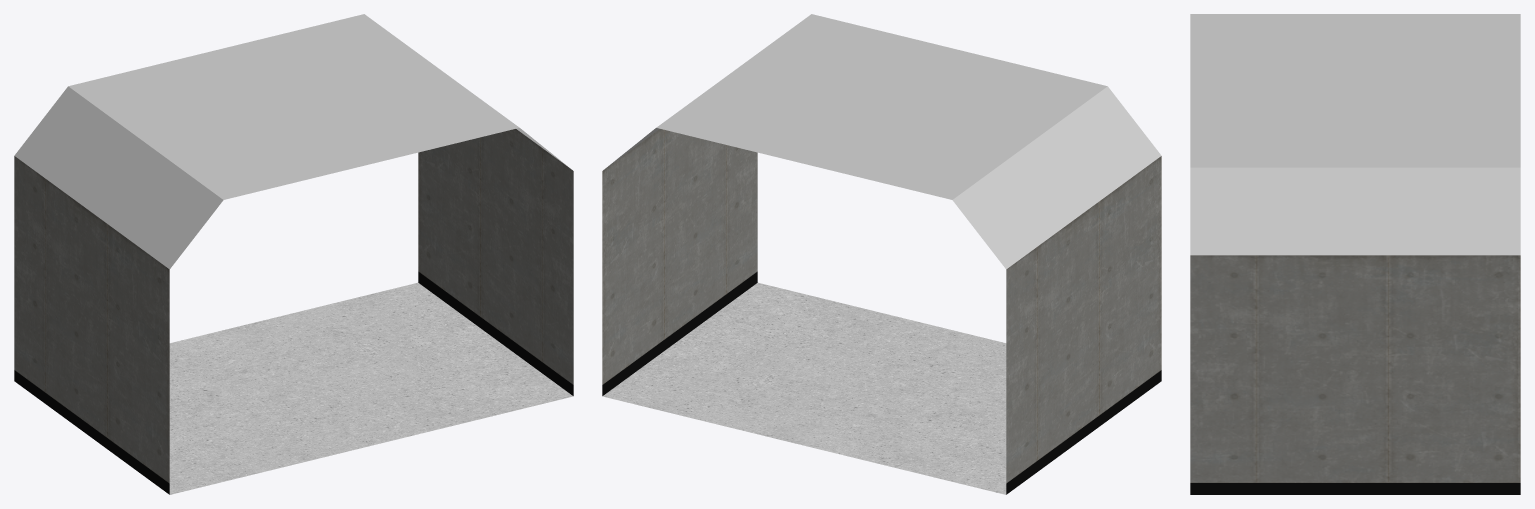
The picture shows the model from 3 angles, left to right: view 1: azimuth 30°, elevation 25°; view 2: azimuth 150°, elevation 25°; view 3: azimuth 270°, elevation 25°; orthographic projection. The views are drawn at different scales.
Parts seen in each view (by area): view 1: GC; view 2: GC; view 3: GC.
Part boxes in pixels (x1,y1,x2,y2): GC: (14,14,573,494); GC: (602,14,1161,494); GC: (1190,14,1520,494).
Size of the model in its own units: 1500 by 1000 by 1000.
